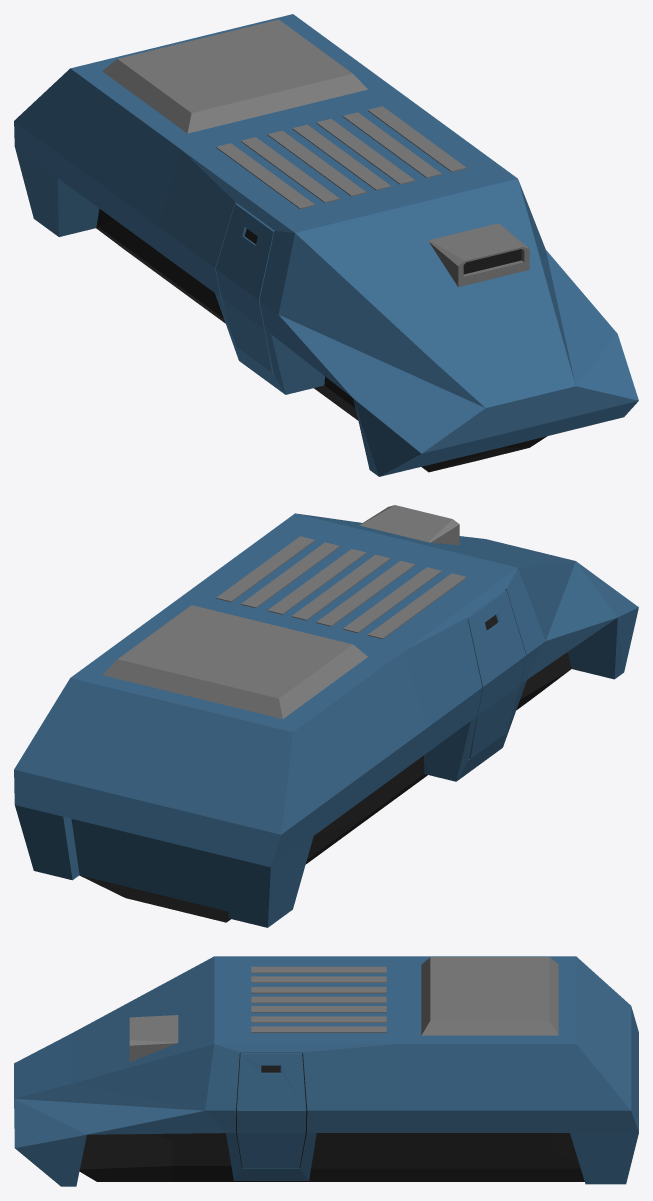
The model's file is enforcer_hull.glb.
The picture shows the model from 3 angles, top to bottom: view 1: azimuth 30°, elevation 25°; view 2: azimuth 150°, elevation 25°; view 3: azimuth 270°, elevation 25°; orthographic projection. The views are drawn at different scales.
Visible parts, largest first — view 1: body, door right, window, Cube.005, Cube.001, Cube.002, Cube, Cube.003, Cube.004, Cube.006; view 2: body, door right, window, Cube, Cube.004, Cube.002, Cube.003, Cube.006, Cube.001, Cube.005; view 3: body, door left, window, Cube.003, Cube.004, Cube, Cube.001, Cube.002, Cube.005, Cube.006.
Boxes of the visible parts, <box> form: body: <box>14,14,638,476</box>; door right: <box>215,203,274,372</box>; window: <box>429,223,529,287</box>; Cube.005: <box>267,130,366,196</box>; Cube.001: <box>342,112,441,177</box>; Cube.002: <box>316,119,415,184</box>; Cube: <box>367,106,466,172</box>; Cube.003: <box>216,143,314,208</box>; Cube.004: <box>292,124,391,190</box>; Cube.006: <box>241,137,339,202</box>; body: <box>14,513,638,927</box>; door right: <box>467,590,526,758</box>; window: <box>359,505,459,545</box>; Cube: <box>216,536,315,602</box>; Cube.004: <box>291,554,390,620</box>; Cube.002: <box>267,549,366,614</box>; Cube.003: <box>367,573,466,639</box>; Cube.006: <box>343,567,441,632</box>; Cube.001: <box>241,542,339,608</box>; Cube.005: <box>316,560,415,626</box>; body: <box>14,956,638,1186</box>; door left: <box>236,1053,306,1167</box>; window: <box>129,1015,178,1062</box>; Cube.003: <box>251,966,386,973</box>; Cube.004: <box>251,996,386,1003</box>; Cube: <box>251,1026,386,1032</box>; Cube.001: <box>251,1016,386,1022</box>; Cube.002: <box>251,1006,386,1012</box>; Cube.005: <box>251,987,386,993</box>; Cube.006: <box>251,976,386,982</box>.
Size of the model in its own units: 3.77 by 2.9 by 9.48.
